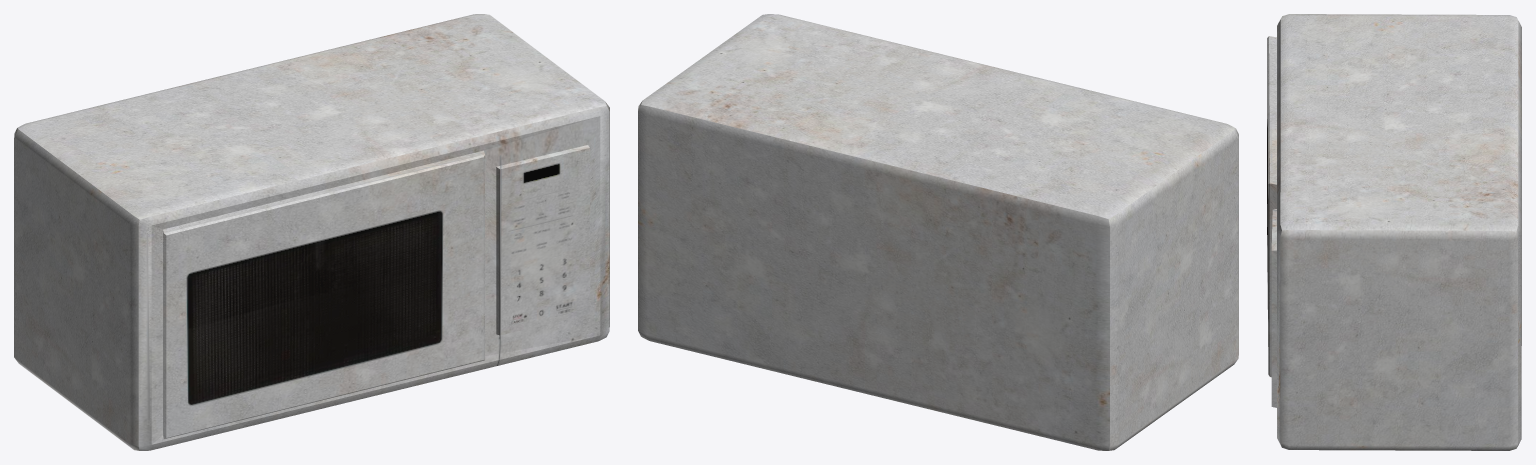
File: microondas.fbx
3 views of the same model, side by side, from view 1: azimuth 30°, elevation 25°; view 2: azimuth 150°, elevation 25°; view 3: azimuth 270°, elevation 25° (orthographic). The views are drawn at different scales.
Visible parts, largest first — view 1: MICROONDAS; view 2: MICROONDAS; view 3: MICROONDAS.
Part boxes in pixels (<box>): MICROONDAS: <box>14,14,609,450</box>; MICROONDAS: <box>638,14,1238,450</box>; MICROONDAS: <box>1267,14,1521,450</box>.
Size of the model in its own units: 35.1 by 16.7 by 17.08.
